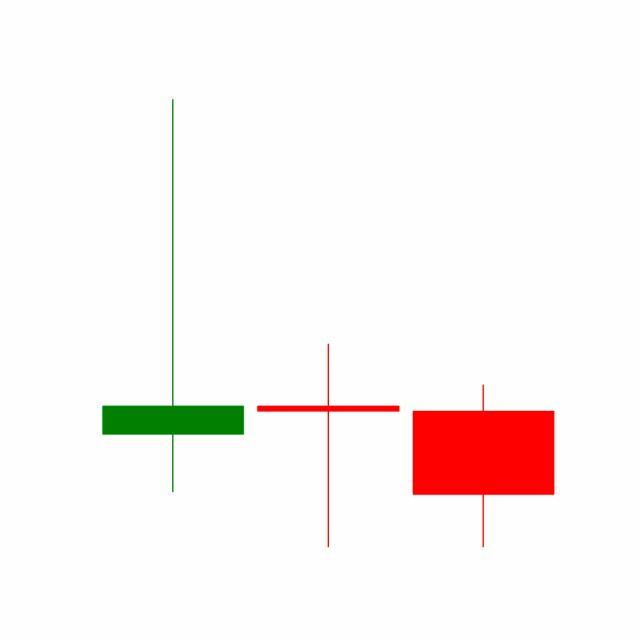Hammer: (250, 342, 407, 551)
